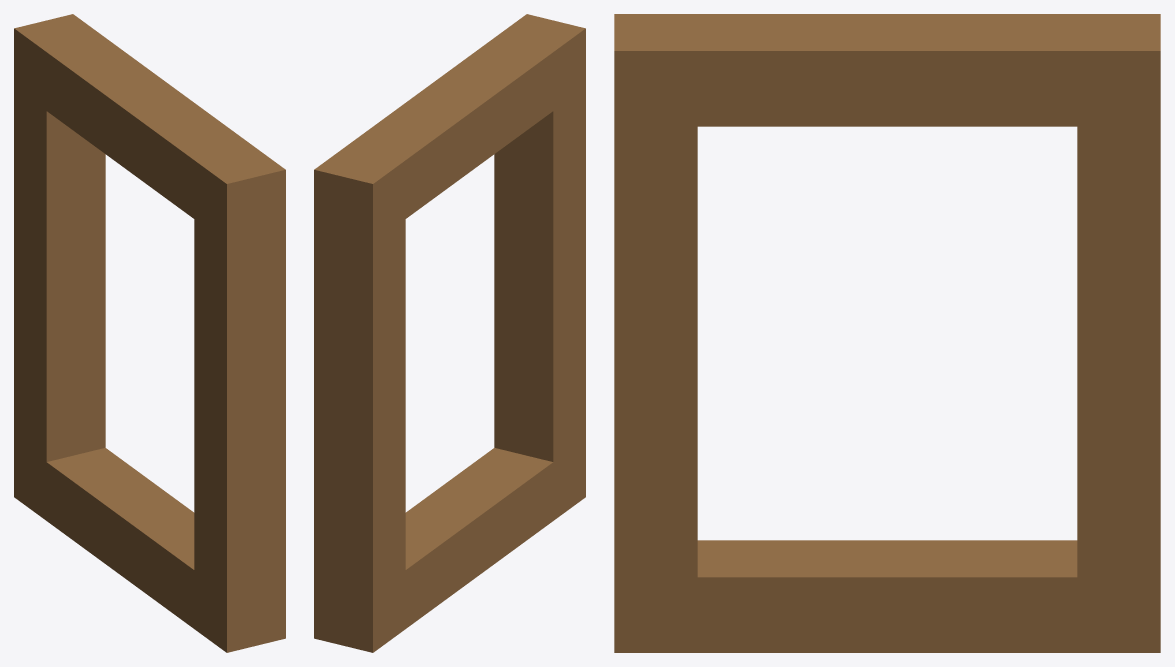
The model's file is modularBuildings_080.fbx.
3 renders of one model, left to right at view 1: azimuth 30°, elevation 25°; view 2: azimuth 150°, elevation 25°; view 3: azimuth 270°, elevation 25°, orthographic. The views are drawn at different scales.
Visible parts, largest first — view 1: Mesh1_Group1 Model; view 2: Mesh1_Group1 Model; view 3: Mesh1_Group1 Model.
Part boxes in pixels (x1,y1,x2,y2): Mesh1_Group1 Model: (14, 14, 285, 652); Mesh1_Group1 Model: (314, 14, 585, 652); Mesh1_Group1 Model: (614, 14, 1160, 652).
Bounding box in the file's own units: 0.05 × 0.38 × 0.3125.
